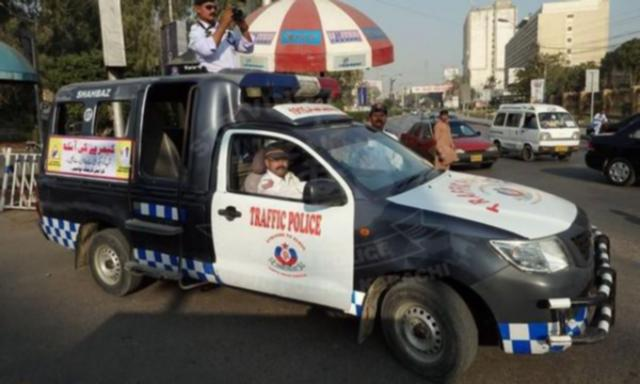police: (29, 68, 628, 382)
